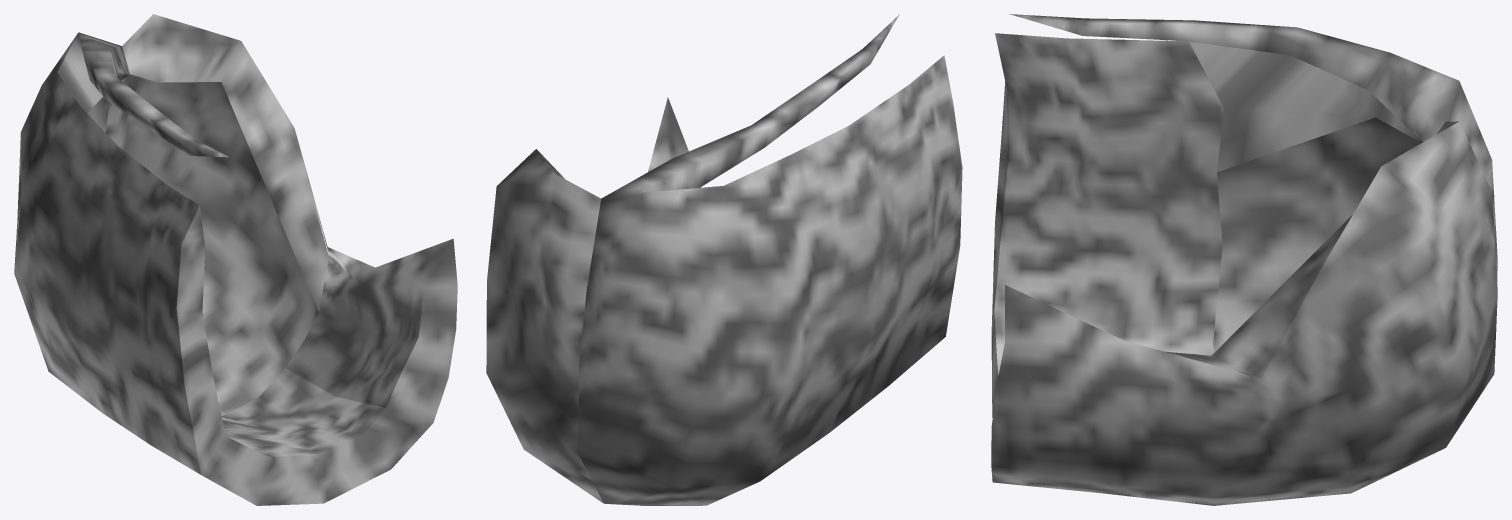
Rendered from Wig_Bob_Hair_Grungey.fbx.
3 renders of one model, left to right at view 1: azimuth 30°, elevation 25°; view 2: azimuth 150°, elevation 25°; view 3: azimuth 270°, elevation 25°, orthographic. The views are drawn at different scales.
Visible parts, largest first — view 1: BoxOfJars003; view 2: BoxOfJars003; view 3: BoxOfJars003.
Part boxes in pixels (box(x1,y1,x2,y2)): BoxOfJars003: box(14, 14, 457, 505); BoxOfJars003: box(486, 14, 962, 505); BoxOfJars003: box(991, 14, 1497, 505).
Size of the model in its own units: 10.11 by 12.79 by 13.72.
